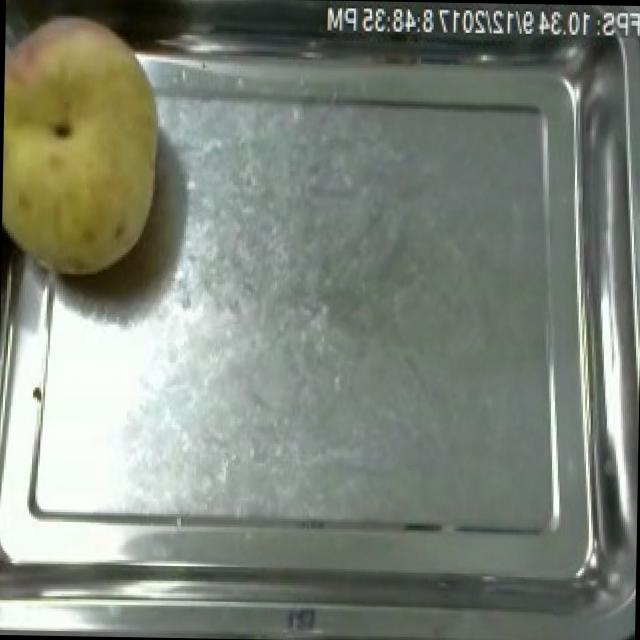Fruit: (1, 7, 178, 286)
